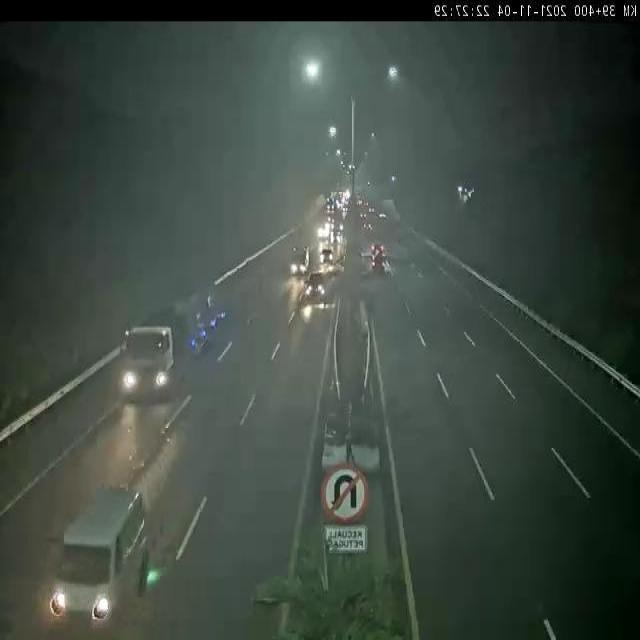Car: (302, 274, 329, 300), (319, 246, 337, 266)
Truck: (114, 273, 233, 410), (280, 240, 315, 282)
Van: (38, 489, 167, 640)
